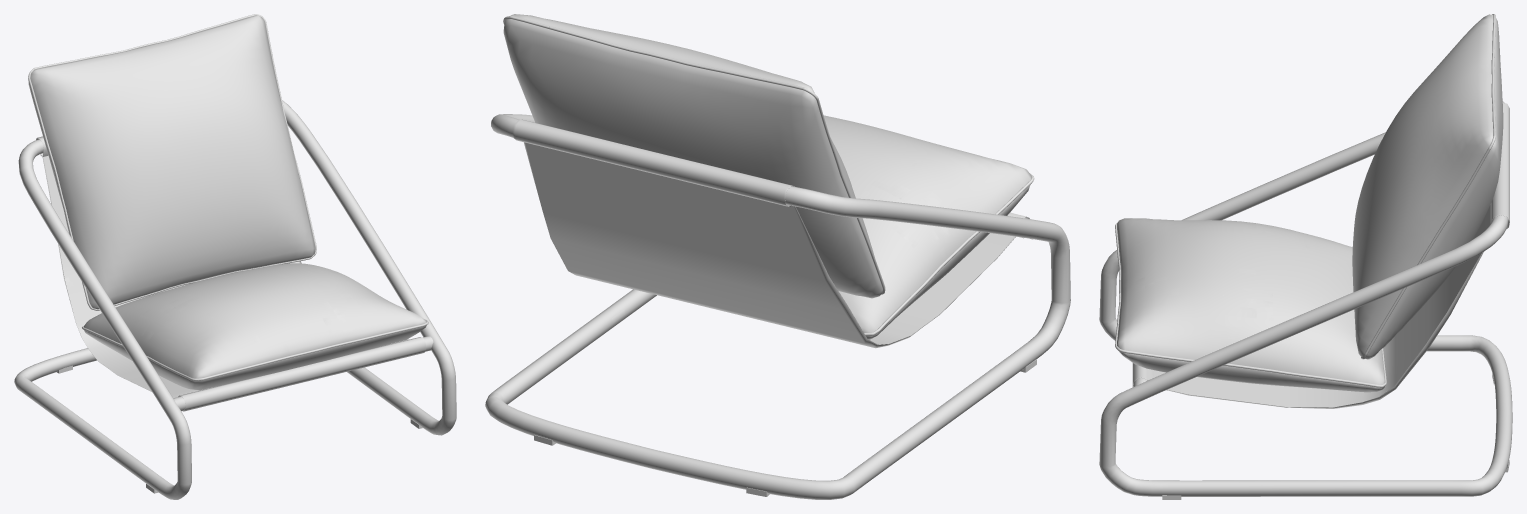
File: 6122afb7-3fb5-441e-9fa3-f57de7ebed93.glb
3 views of the same model, side by side, from view 1: azimuth 30°, elevation 25°; view 2: azimuth 150°, elevation 25°; view 3: azimuth 270°, elevation 25° (orthographic). The views are drawn at different scales.
Parts seen in each view (by area): view 1: chair; view 2: chair; view 3: chair.
Boxes of the visible parts, <box> form: chair: <box>14,14,456,499</box>; chair: <box>485,14,1070,499</box>; chair: <box>1099,14,1512,499</box>.
Bounding box in the file's own units: 0.6645 × 0.706 × 0.7563.
1 material, 1 textured.
